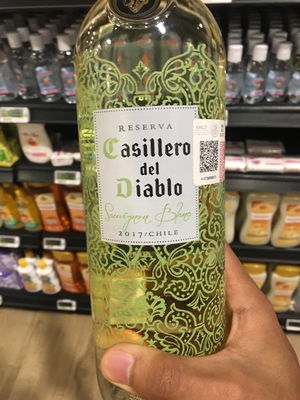casillero del diablo sauvignon blanc: (69, 10, 238, 357)
